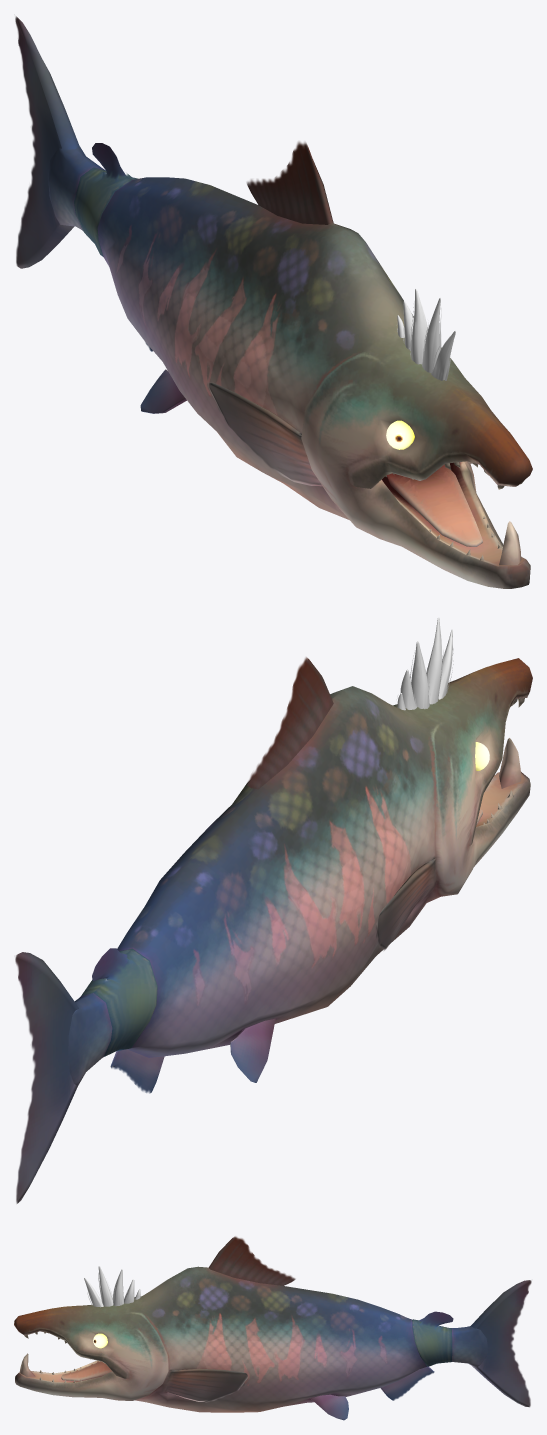
The picture shows the model from 3 angles, top to bottom: view 1: azimuth 30°, elevation 25°; view 2: azimuth 150°, elevation 25°; view 3: azimuth 270°, elevation 25°; orthographic projection. The views are drawn at different scales.
Visible parts, largest first — view 1: Body_Mesh__M_Body, Hair02_a1__M_Hair02.001, Eyes_Mesh__M_Body; view 2: Body_Mesh__M_Body, Hair02_a1__M_Hair02.001; view 3: Body_Mesh__M_Body, Hair02_a1__M_Hair02.001, Eyes_Mesh__M_Body.
Boxes of the visible parts, <box> form: Body_Mesh__M_Body: <box>15,16,532,588</box>; Hair02_a1__M_Hair02.001: <box>396,289,455,380</box>; Eyes_Mesh__M_Body: <box>385,420,524,561</box>; Body_Mesh__M_Body: <box>15,657,532,1203</box>; Hair02_a1__M_Hair02.001: <box>396,617,453,710</box>; Body_Mesh__M_Body: <box>14,1236,531,1420</box>; Hair02_a1__M_Hair02.001: <box>84,1266,140,1307</box>; Eyes_Mesh__M_Body: <box>24,1332,107,1383</box>.
Size of the model in its own units: 35.3 by 68.06 by 183.
Materials: 2 (2 with a texture image).
